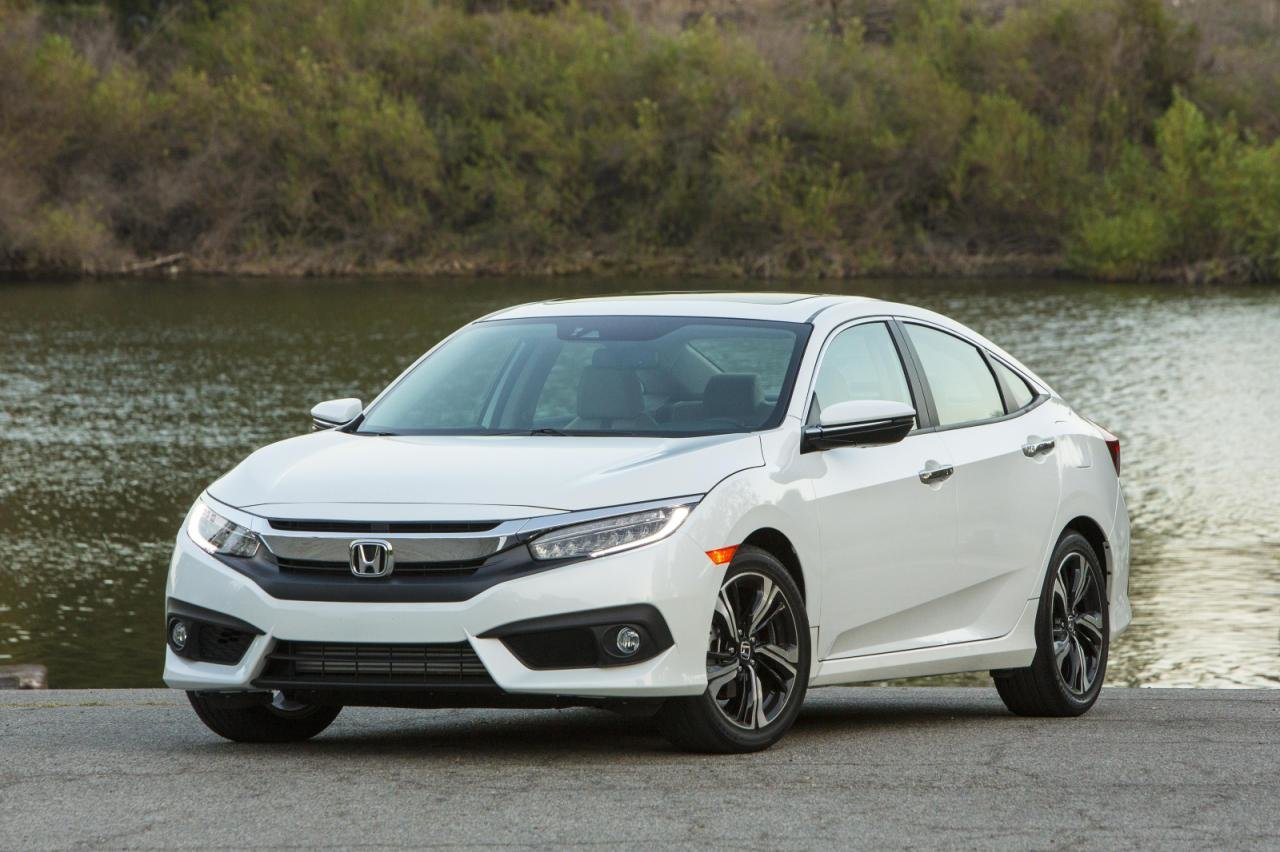sedan: (155, 283, 1131, 751)
